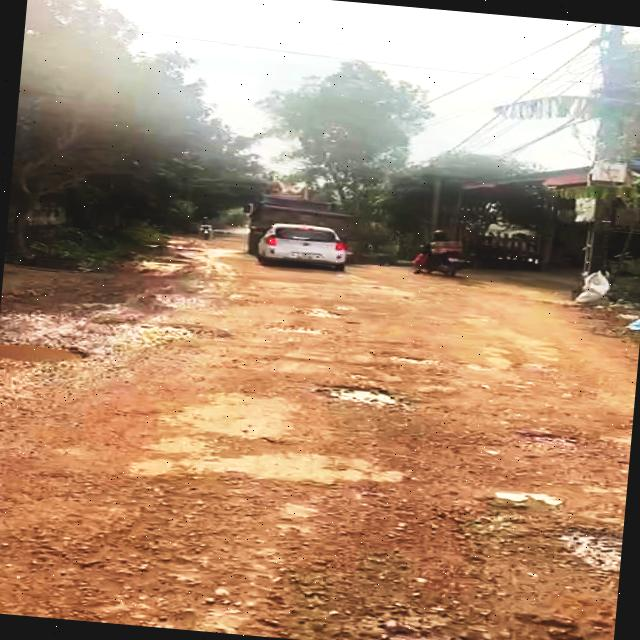pothole: (351, 601, 614, 640), (551, 520, 623, 580), (0, 335, 97, 370), (308, 380, 406, 410)
